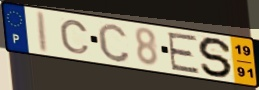8: (133, 26, 160, 69)
C: (96, 22, 132, 64), (58, 18, 92, 55)
E: (166, 31, 201, 75)
I: (37, 10, 50, 55)
S: (197, 36, 235, 79)
